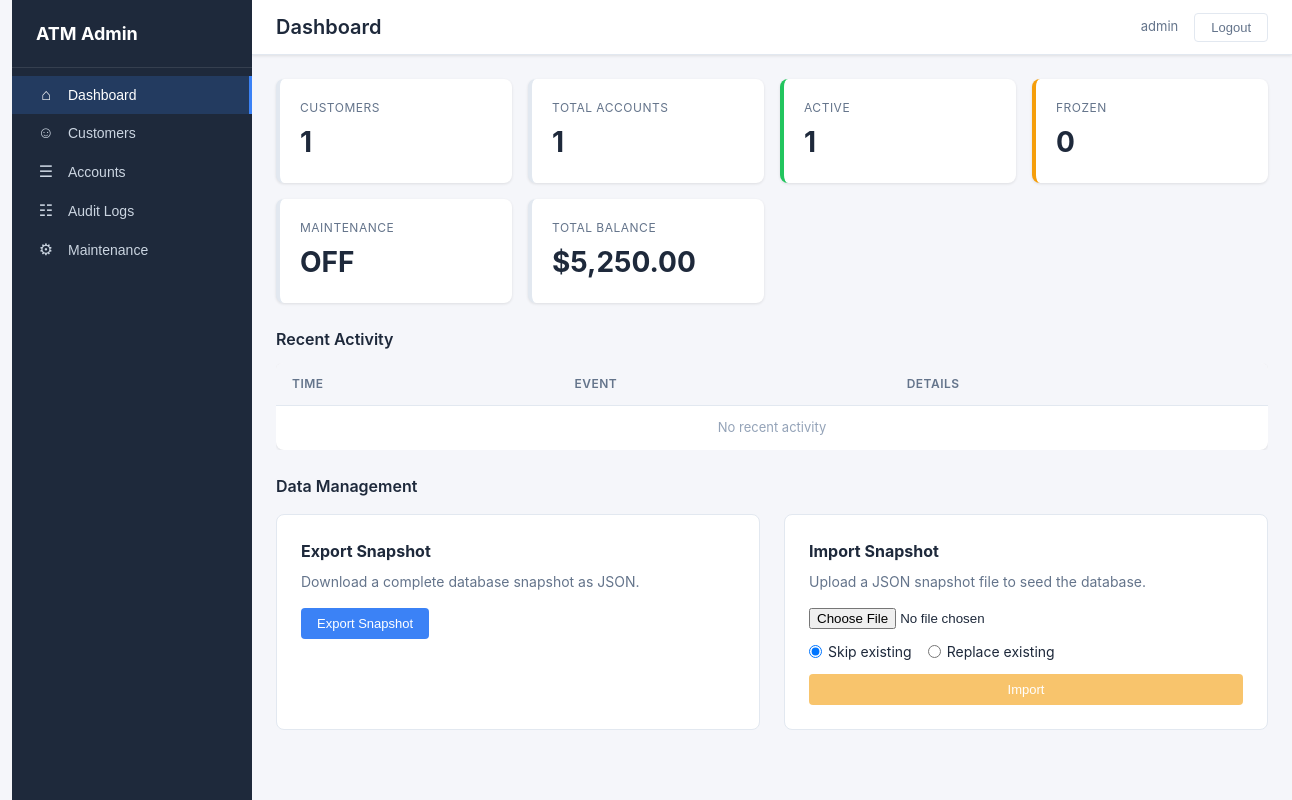
Test: App › navigates to customer detail and back
The width and height of the screenshot is (1292, 800).
Check: the text "Total Accounts" is shown, box [552, 100, 668, 115]
Click the button "☺ Customers" at (132, 133), box [12, 114, 252, 152]
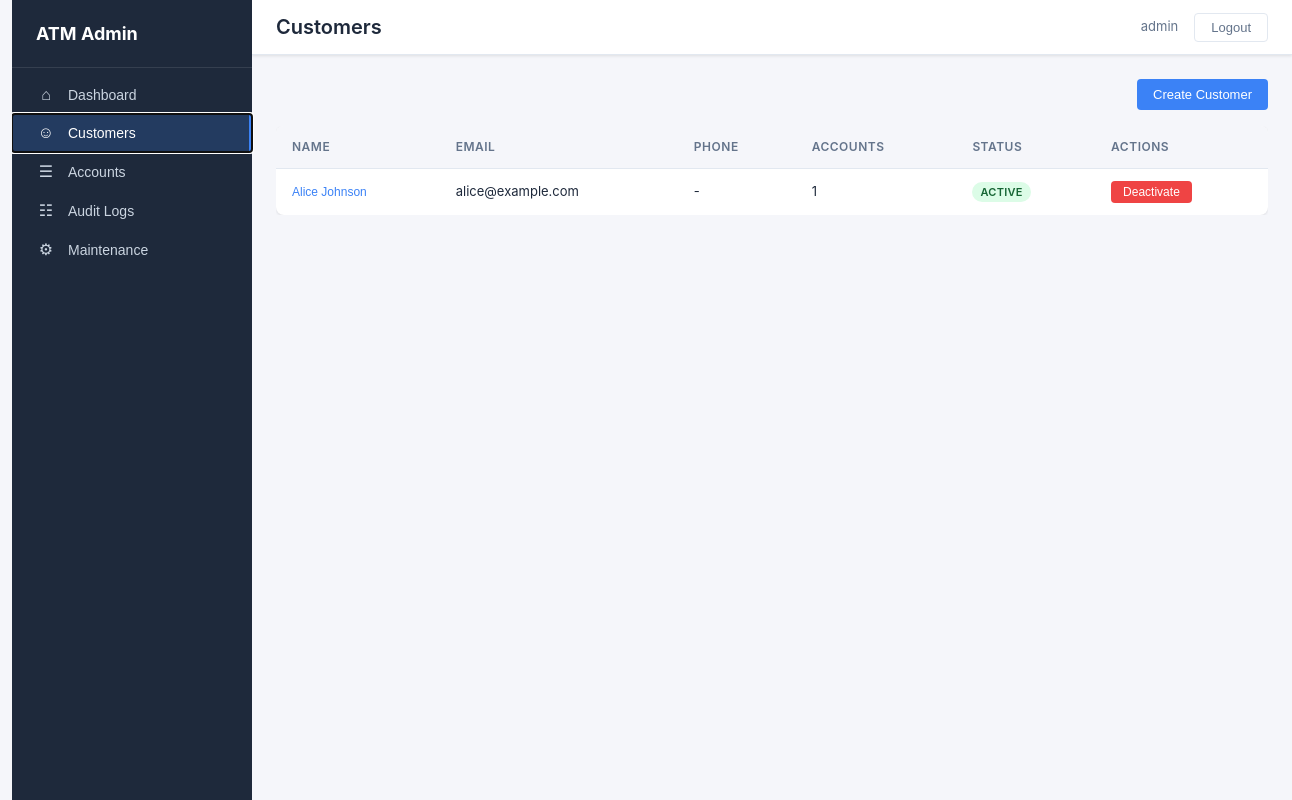
Check: the button "Alice Johnson" is shown
Click the button "Alice Johnson" at (329, 192), box [292, 185, 367, 199]
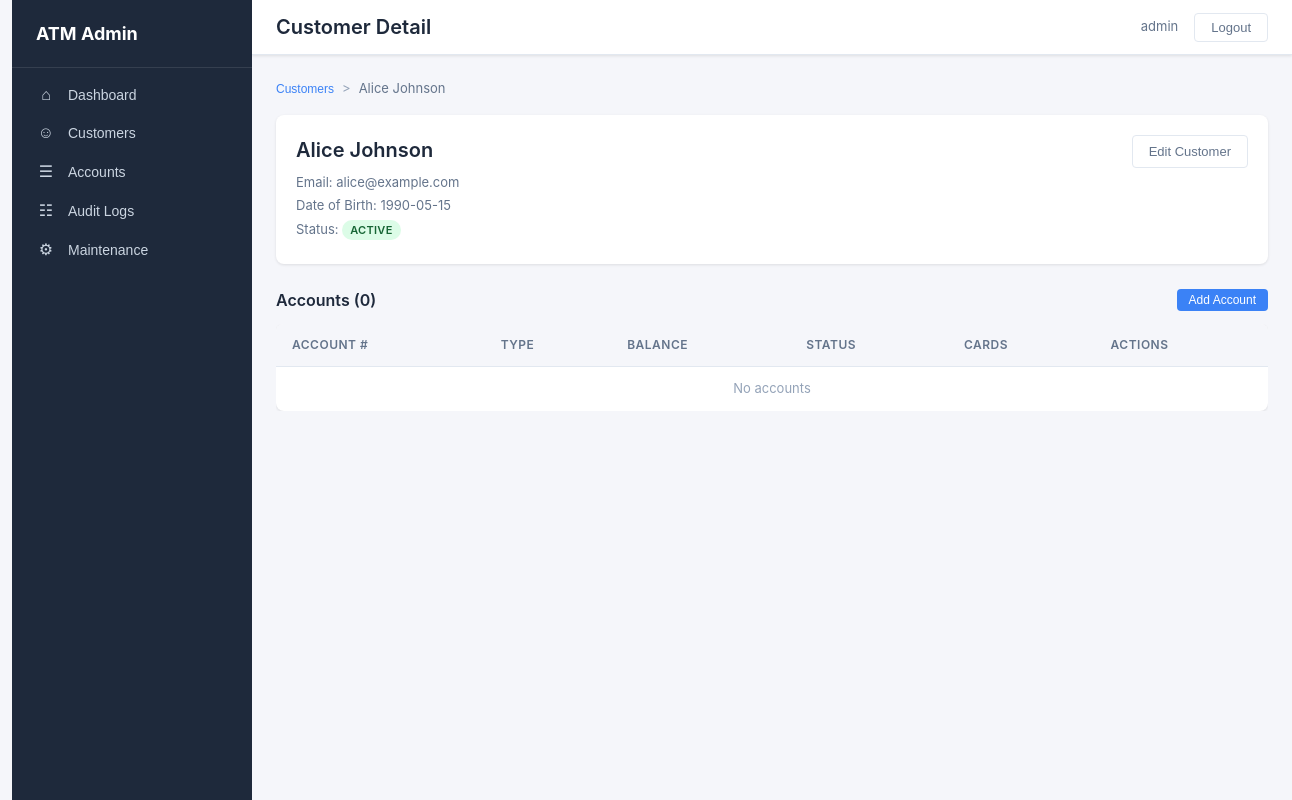
Check: the text "Email: alice@example.com" is shown, box [296, 172, 460, 192]
